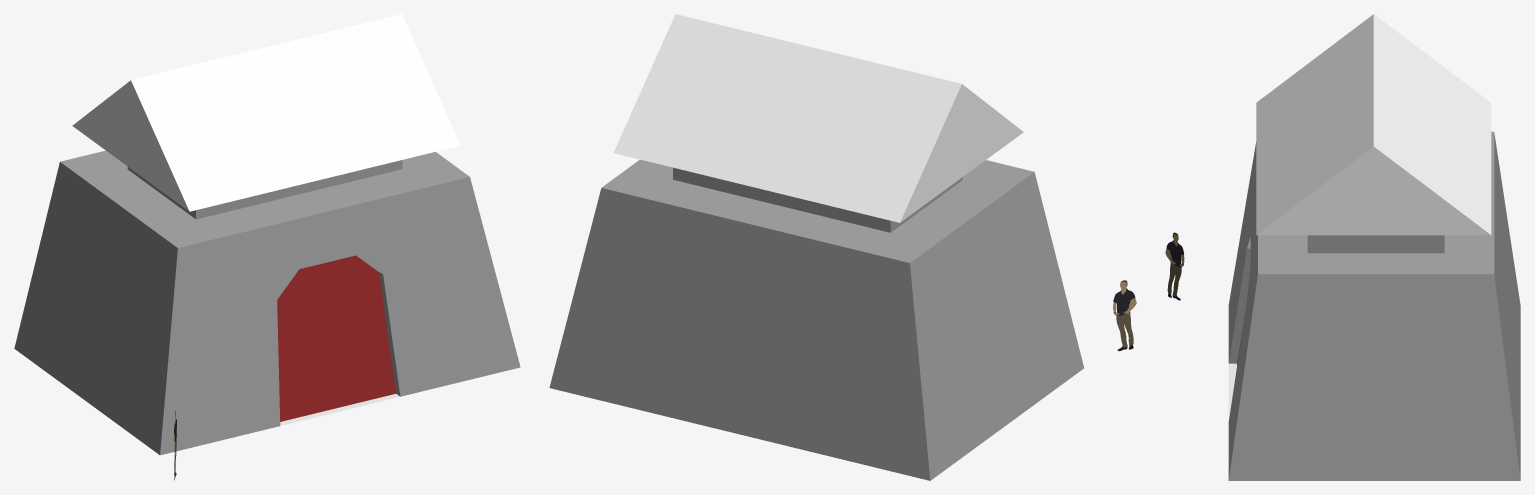
Rendered from city.fbx.
3 renders of one model, left to right at view 1: azimuth 30°, elevation 25°; view 2: azimuth 150°, elevation 25°; view 3: azimuth 270°, elevation 25°, orthographic. The views are drawn at different scales.
Visible parts, largest first — view 1: Model, Group1; view 2: Model, Group1, Chris1; view 3: Model, Group1, Chris1.
Part boxes in pixels (x1=…): Model: x1=14, y1=150, x2=520, y2=455; Group1: x1=72, y1=14, x2=460, y2=211; Model: x1=549, y1=159, x2=1083, y2=480; Group1: x1=613, y1=14, x2=1023, y2=222; Chris1: x1=1113, y1=280, x2=1136, y2=351; Model: x1=1228, y1=131, x2=1520, y2=480; Group1: x1=1256, y1=14, x2=1491, y2=235; Chris1: x1=1165, y1=232, x2=1184, y2=300.
Size of the model in its own units: 10.5 by 8.29 by 8.52.
